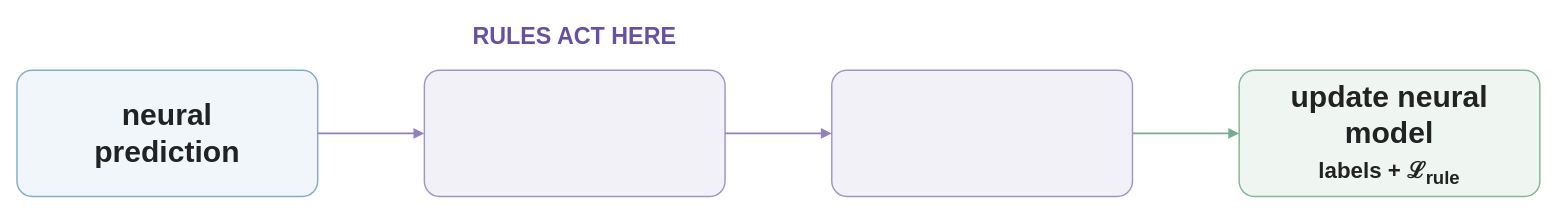
This 1558x213 diagram has some shape labels left out. The centre of each missing label's shape, as x and y in pixels:
"check active rules" belongs at [574,133].
"rule-consistency loss ℒ rule" belongs at [982,133].
